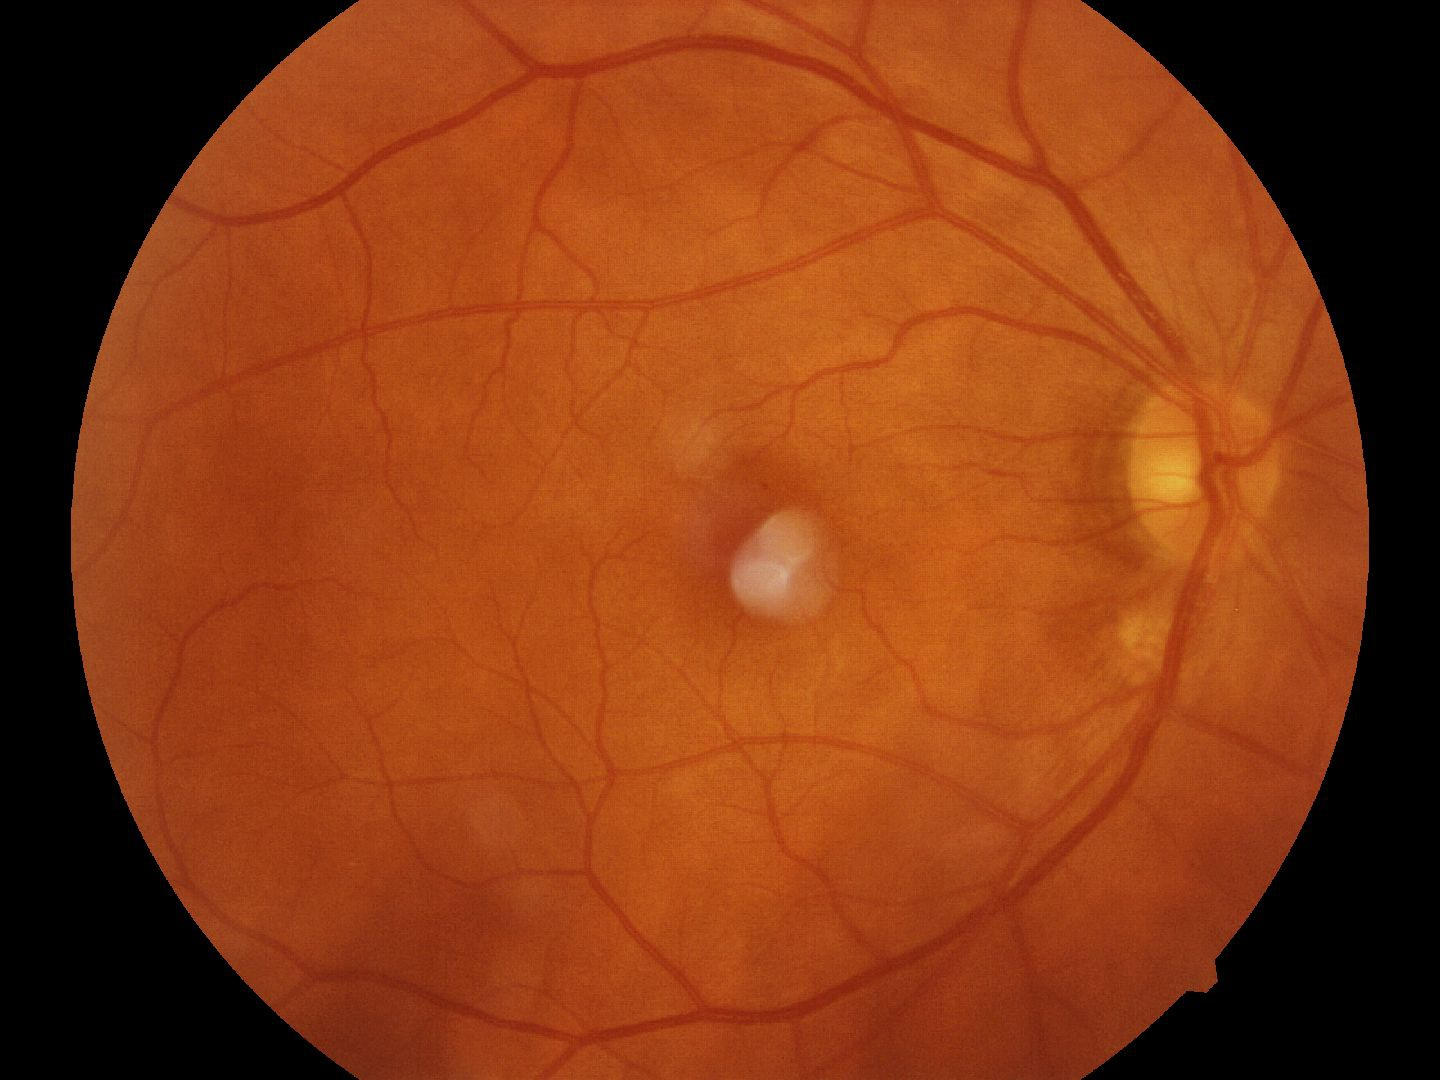Hemorrhages: (691, 445, 872, 665)
Optic-Disc: (1123, 368, 1291, 580)
Venules: (635, 37, 1117, 288), (455, 834, 870, 1063)
